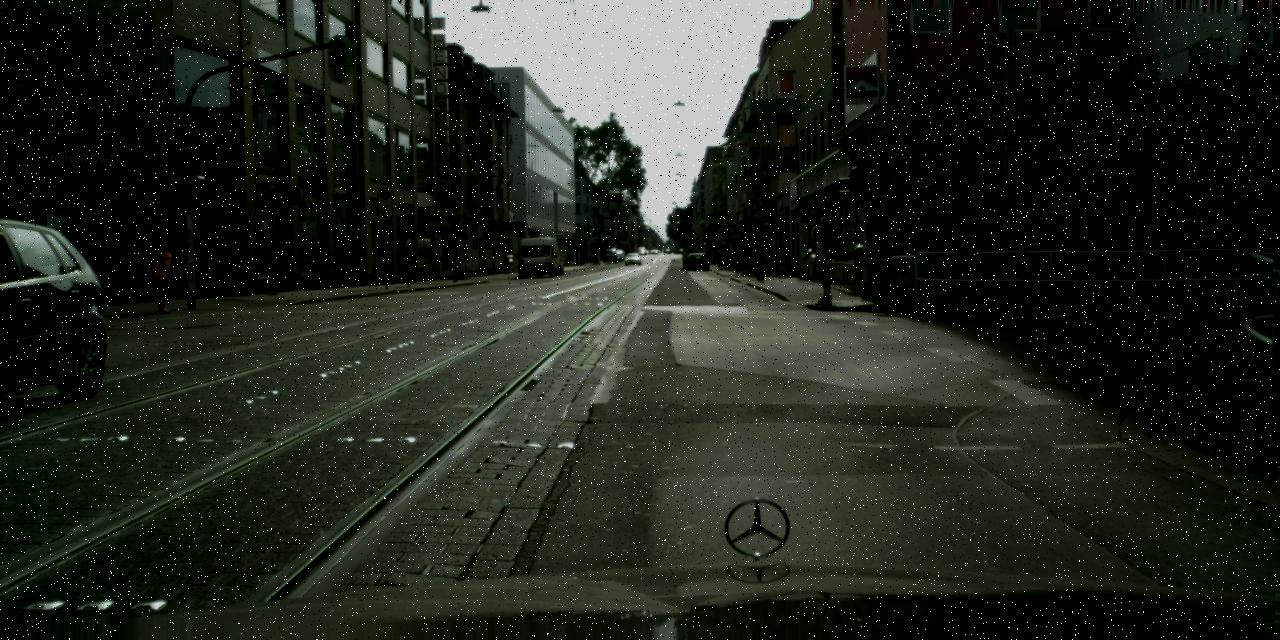ped: (804, 216, 832, 306), (148, 234, 180, 312), (716, 246, 724, 268), (680, 250, 688, 270)
